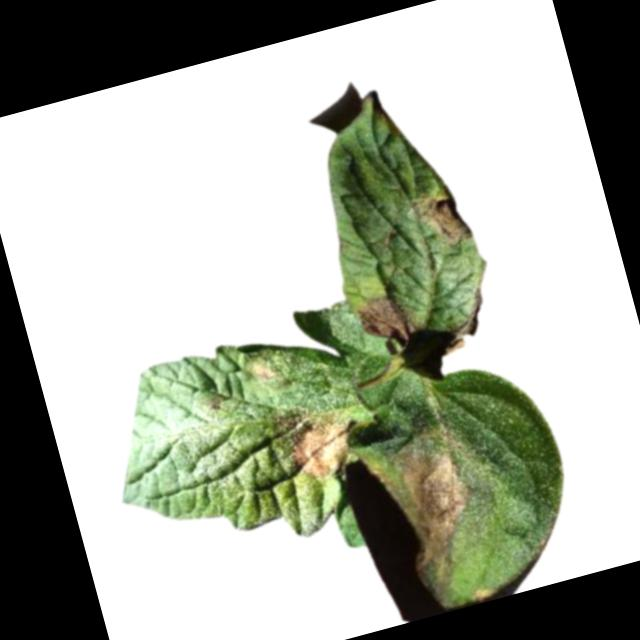Late_blight: (391, 433, 486, 566), (282, 403, 363, 487), (411, 184, 474, 253), (435, 287, 495, 354), (357, 290, 419, 354), (246, 357, 278, 387)
